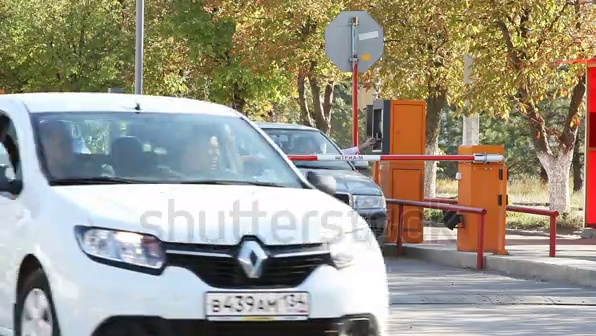licenseplate: (204, 288, 313, 322)
